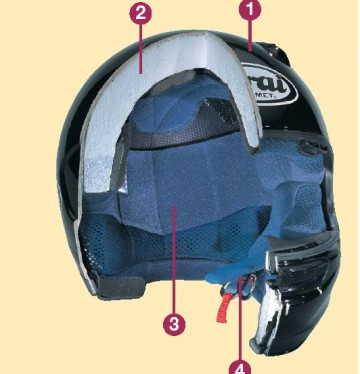helmet: (69, 49, 329, 332)
